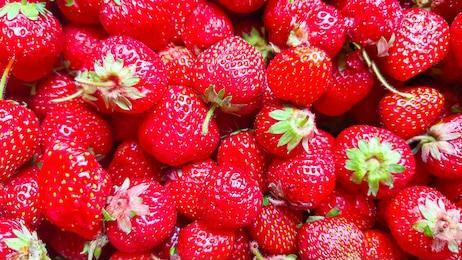Fresa: (77, 33, 170, 121), (139, 83, 224, 171), (331, 121, 420, 203), (183, 31, 270, 111), (102, 170, 181, 256), (382, 181, 462, 256), (3, 1, 65, 87)
